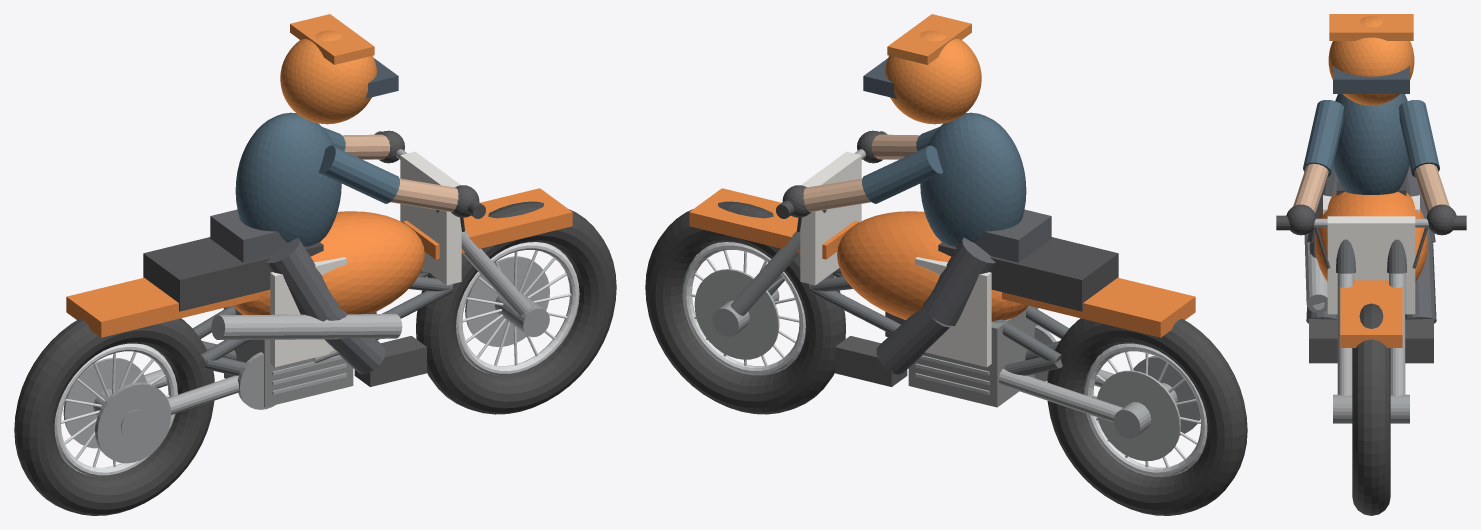
File: dirt_bike_rider_hd.glb
The picture shows the model from 3 angles, left to right: view 1: azimuth 30°, elevation 25°; view 2: azimuth 150°, elevation 25°; view 3: azimuth 270°, elevation 25°; orthographic projection. The views are drawn at different scales.
Visible parts, largest first — view 1: RearWheel_Tire, FrontWheel_Tire, RiderTorso, FuelTank, Seat, HelmetShell, RearFender, ExhaustCan, RearSprocket, FrontFender, FrontNumberPlate, FrontWheel_Disc (+20 smaller); view 2: RearWheel_Tire, FrontWheel_Tire, RiderTorso, FuelTank, Seat, HelmetShell, RearFender, RearWheel_Disc, FrontWheel_Disc, EngineBlock, FrontFender, FrontNumberPlate (+20 smaller); view 3: FrontWheel_Tire, RiderTorso, FrontNumberPlate, HelmetShell, FrontFender, FuelTank, HelmetPeak, UpperArmL, UpperArmR, HelmetVisor, BootL, BootR (+15 smaller).
Part boxes in pixels (left/top/right/bottom): RearWheel_Tire: left=14, top=318, right=214, bottom=515; FrontWheel_Tire: left=416, top=201, right=616, bottom=414; RiderTorso: left=235, top=112, right=341, bottom=246; FuelTank: left=233, top=211, right=424, bottom=314; Seat: left=143, top=237, right=323, bottom=311; HelmetShell: left=280, top=30, right=377, bottom=124; RearFender: left=66, top=277, right=259, bottom=337; ExhaustCan: left=211, top=314, right=402, bottom=339; RearSprocket: left=95, top=382, right=171, bottom=463; FrontFender: left=402, top=188, right=572, bottom=259; FrontNumberPlate: left=400, top=151, right=461, bottom=285; FrontWheel_Disc: left=465, top=256, right=549, bottom=346; RearWheel_Tire: left=1047, top=318, right=1247, bottom=515; FrontWheel_Tire: left=645, top=201, right=845, bottom=414; RiderTorso: left=920, top=112, right=1026, bottom=246; FuelTank: left=837, top=211, right=1028, bottom=321; Seat: left=938, top=237, right=1118, bottom=311; HelmetShell: left=884, top=30, right=981, bottom=124; RearFender: left=1002, top=277, right=1195, bottom=337; RearWheel_Disc: left=1096, top=370, right=1180, bottom=461; FrontWheel_Disc: left=694, top=269, right=779, bottom=359; EngineBlock: left=908, top=306, right=1037, bottom=407; FrontFender: left=689, top=188, right=859, bottom=259; FrontNumberPlate: left=800, top=151, right=861, bottom=285; FrontWheel_Tire: left=1352, top=303, right=1390, bottom=515; RiderTorso: left=1333, top=94, right=1409, bottom=194; FrontNumberPlate: left=1327, top=216, right=1415, bottom=314; HelmetShell: left=1328, top=16, right=1414, bottom=105; FrontFender: left=1340, top=280, right=1402, bottom=347; FuelTank: left=1314, top=191, right=1428, bottom=281; HelmetPeak: left=1329, top=14, right=1413, bottom=40; UpperArmL: left=1399, top=100, right=1439, bottom=177; UpperArmR: left=1303, top=100, right=1343, bottom=177; HelmetVisor: left=1333, top=66, right=1409, bottom=93; BootL: left=1405, top=319, right=1433, bottom=363; BootR: left=1309, top=319, right=1337, bottom=363.
Bounding box in the file's own units: 3.57 × 2.43 × 1.04.
